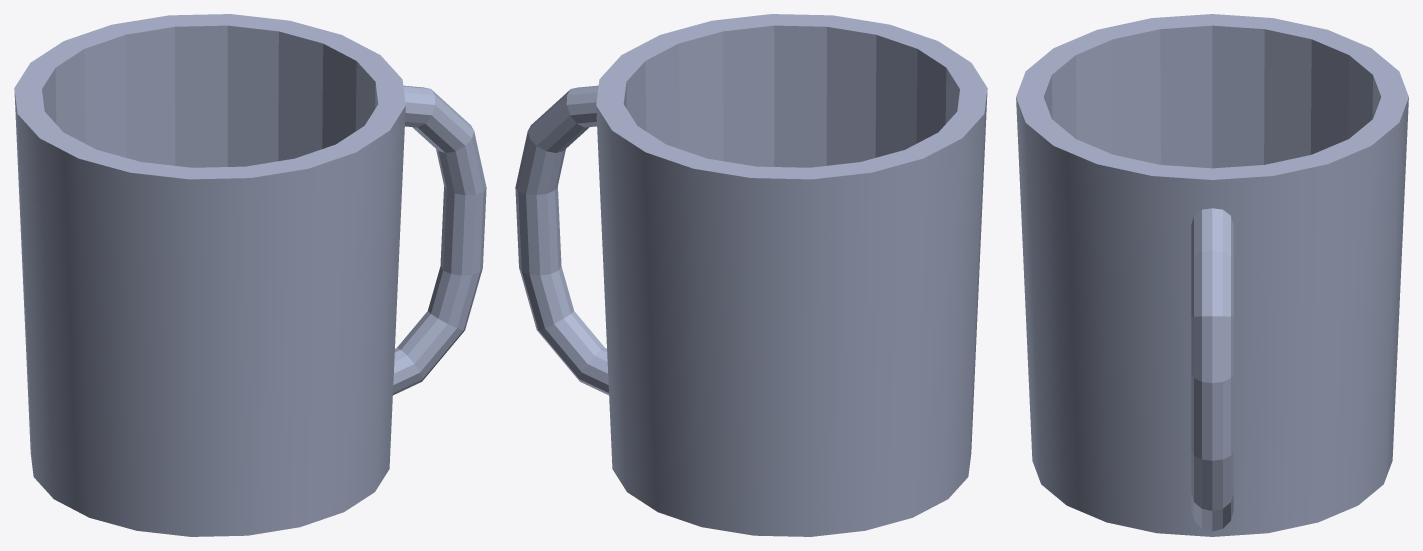
Rendered from Mug.fbx.
3 views of the same model, side by side, from view 1: azimuth 30°, elevation 25°; view 2: azimuth 150°, elevation 25°; view 3: azimuth 270°, elevation 25° (orthographic).
Visible parts, largest first — view 1: Maker; view 2: Maker; view 3: Maker.
Part boxes in pixels (<box>): Maker: <box>14,14,486,536</box>; Maker: <box>515,14,987,536</box>; Maker: <box>1016,14,1408,536</box>.
Size of the model in its own units: 19.29 by 15.13 by 14.81.
